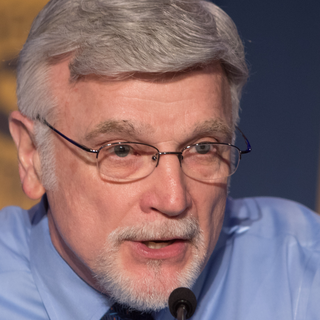eye: (182, 138, 224, 161), (101, 139, 144, 161)
